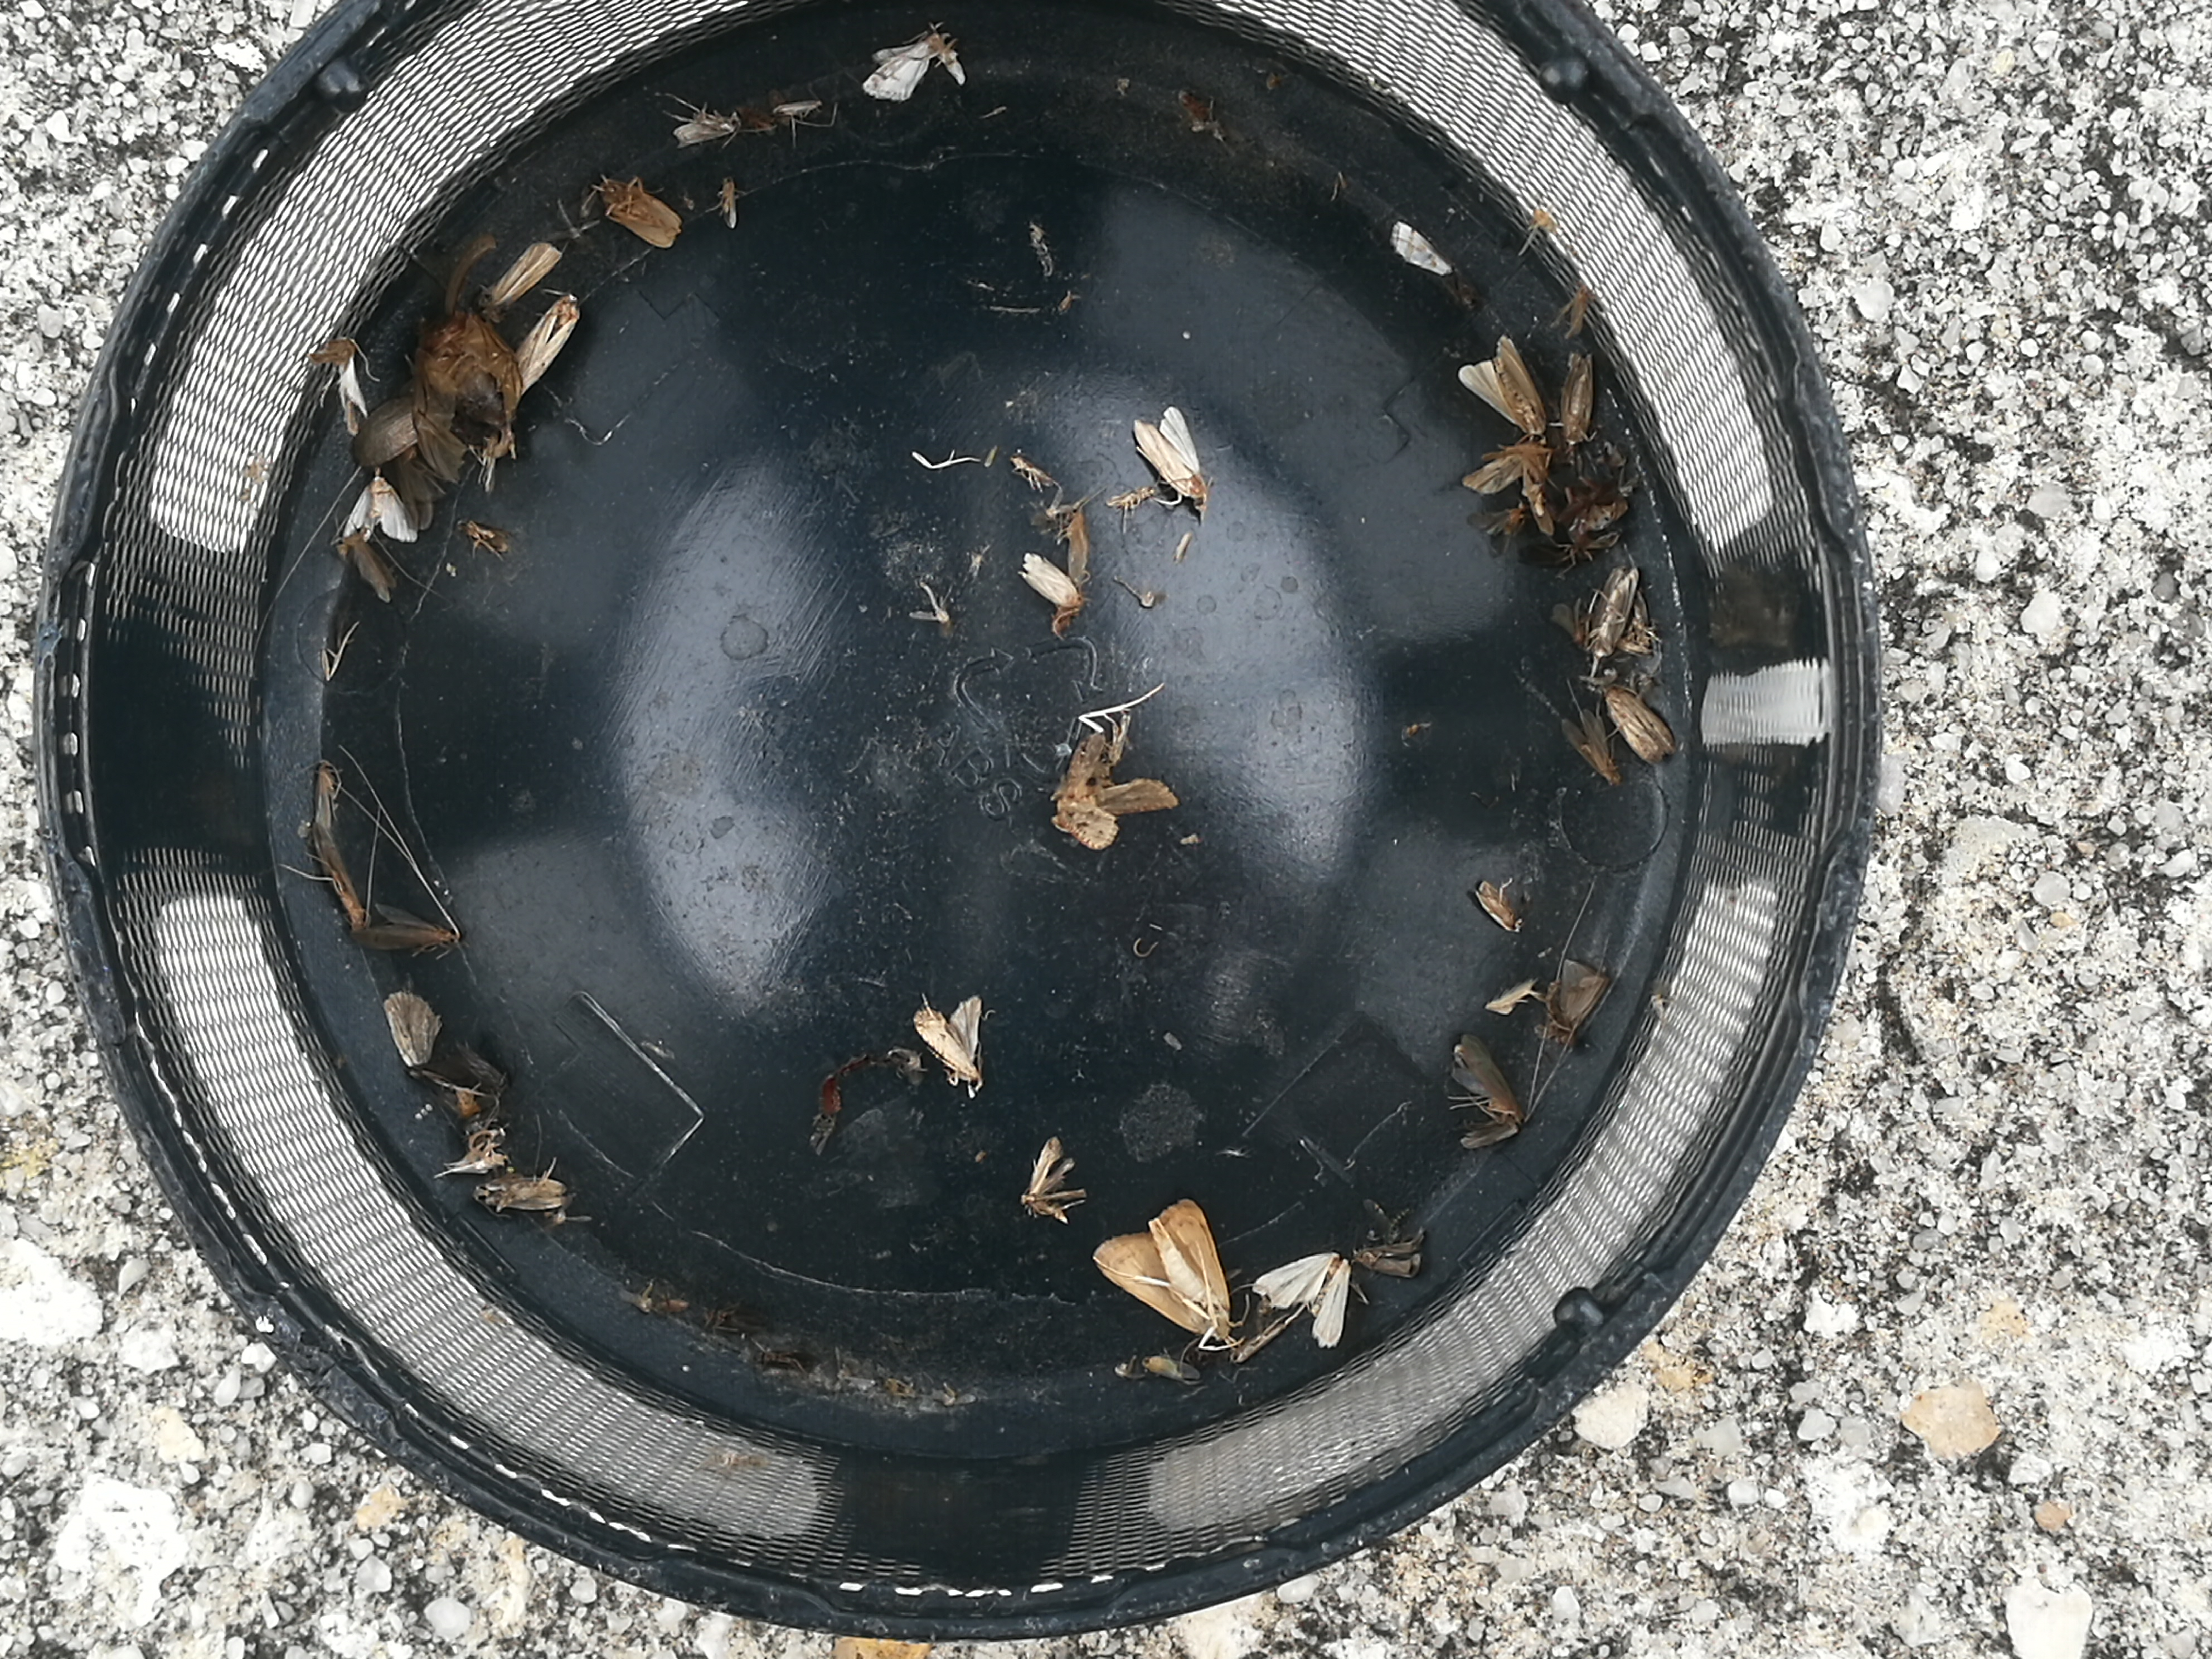beetle: (416, 317, 516, 423)
mosquito: (1453, 1035, 1524, 1127), (475, 242, 561, 314), (519, 295, 580, 392), (315, 826, 364, 929), (1608, 688, 1672, 763), (1587, 566, 1639, 657), (1561, 709, 1622, 782), (343, 532, 394, 603), (1022, 554, 1078, 608), (1562, 354, 1594, 446), (364, 922, 455, 953), (474, 1180, 566, 1209), (1475, 878, 1521, 931), (674, 113, 740, 145), (1141, 1354, 1202, 1380), (1066, 504, 1087, 577), (315, 767, 333, 824), (725, 176, 738, 228)
moth: (1097, 1197, 1230, 1344), (1052, 734, 1179, 850), (1256, 1251, 1352, 1347), (1461, 336, 1545, 434), (864, 33, 965, 99), (913, 997, 981, 1093), (1136, 408, 1202, 498), (601, 179, 683, 249), (345, 476, 418, 542)
